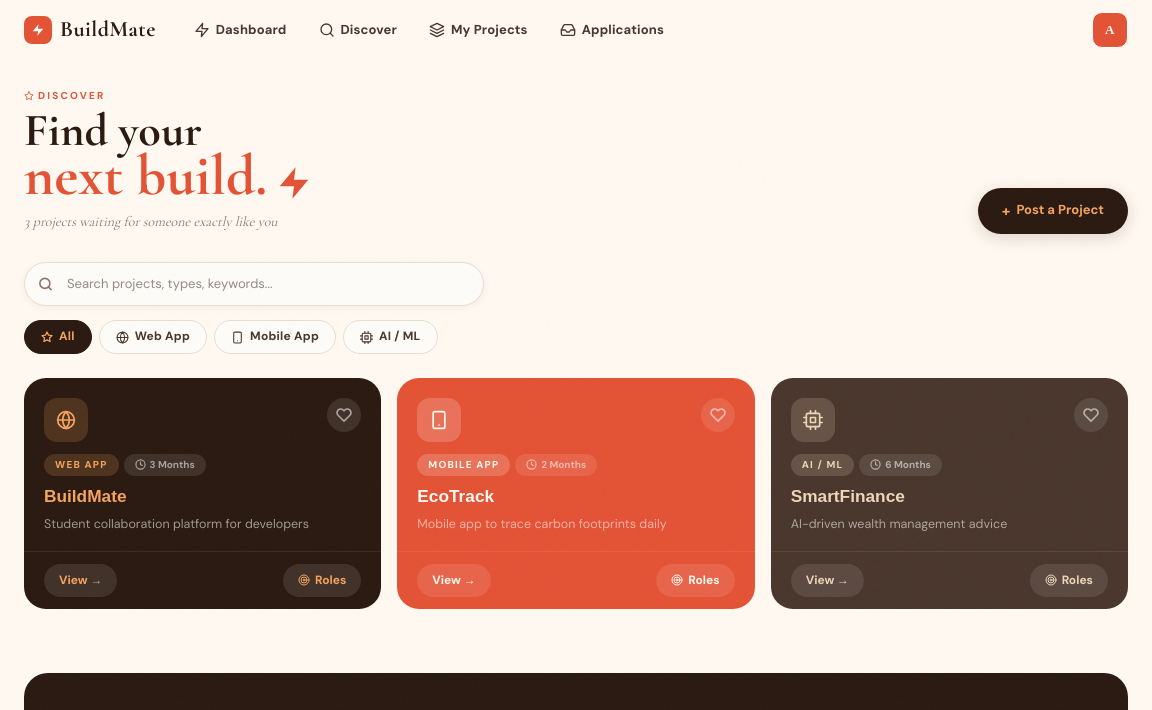
ProjectSwipe › filters project cards based on category filter pills
Expected: the heading "BuildMate" is shown, 44,486 -> 126,506
Click the button "Mobile App": [275, 337] box 214,320 -> 336,354
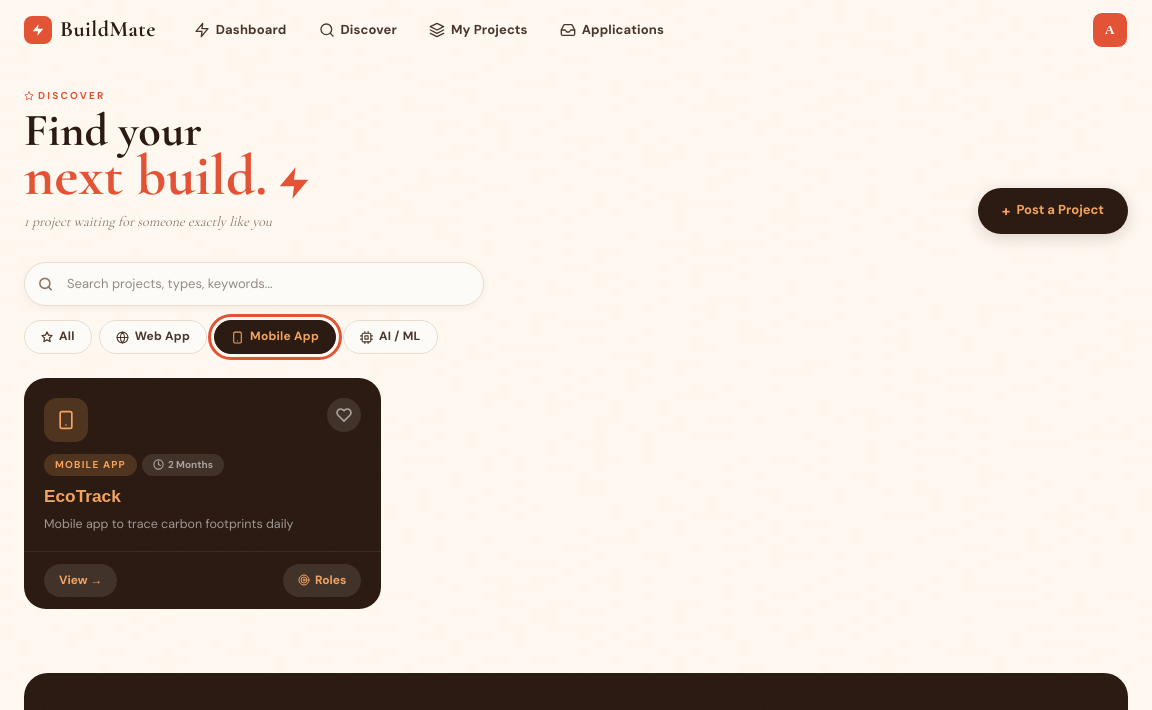
Expected: the heading "EcoTrack" is shown, 44,486 -> 121,506
Click the button "All": [58, 337] box 24,320 -> 92,354
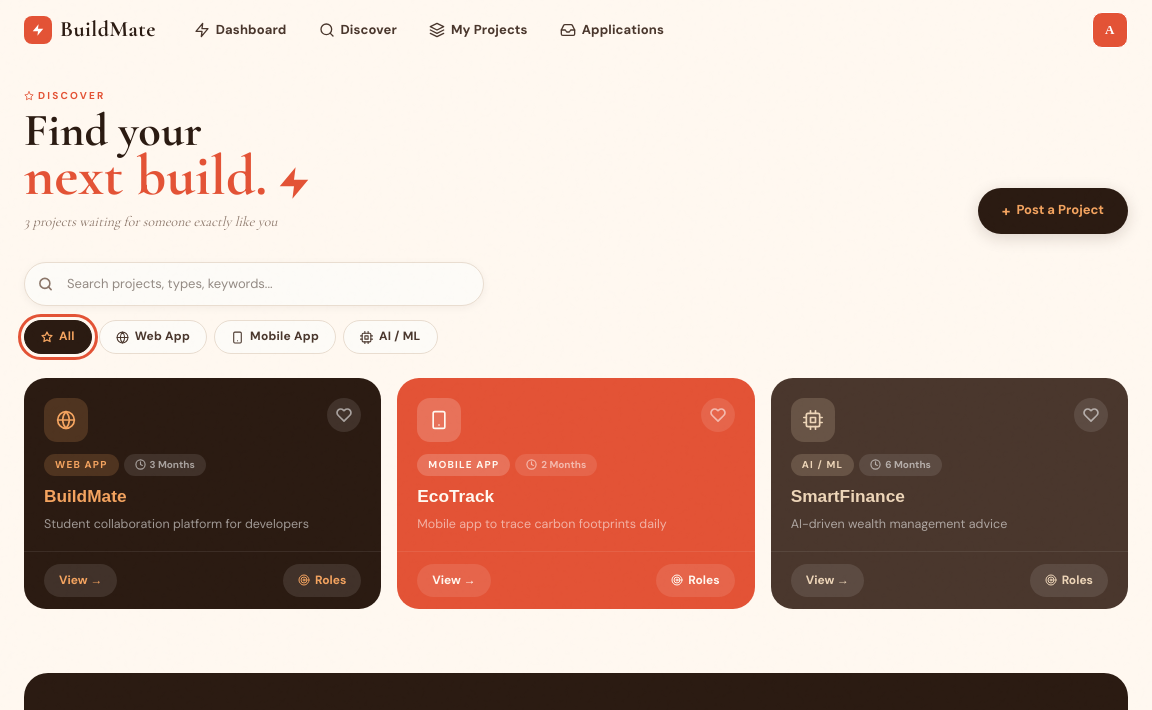
Expected: the heading "EcoTrack" is shown, 417,486 -> 494,506
Now the heading "BuildMate" is shown, box 44,486 -> 126,506
